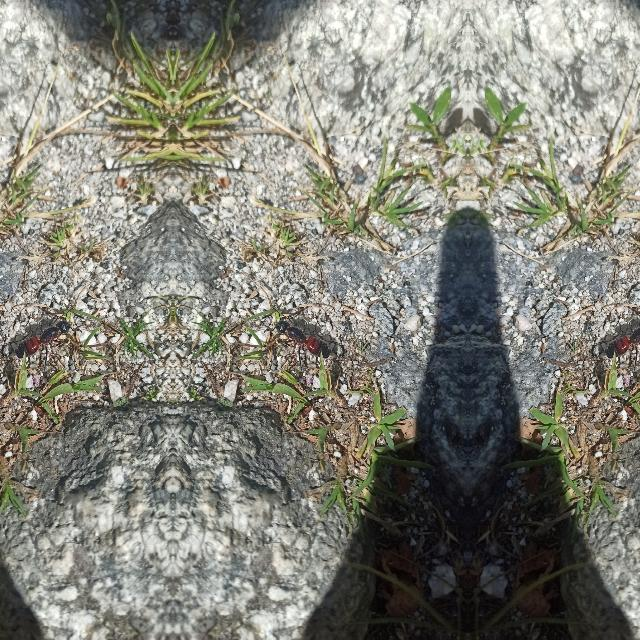Camponotus: (272, 308, 322, 369), (22, 308, 72, 369), (612, 307, 640, 368)
